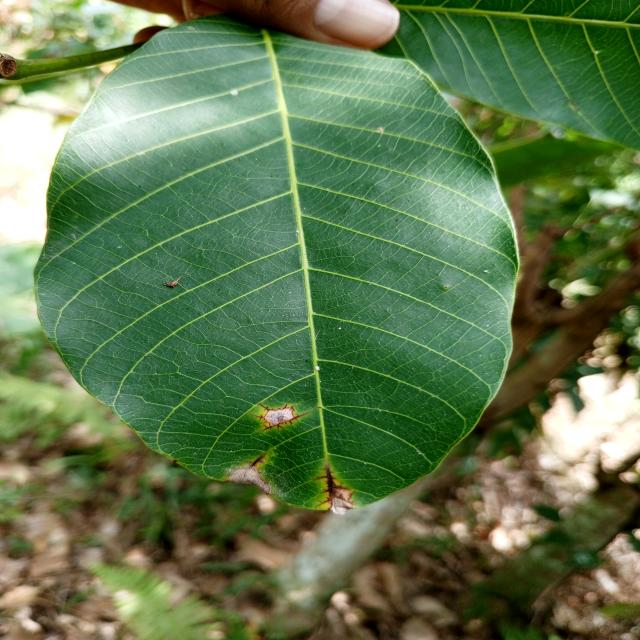Corynespora: (312, 464, 356, 508), (250, 403, 313, 431), (246, 452, 268, 468)
Leaf-Blight: (225, 467, 270, 495), (264, 408, 294, 426), (331, 498, 354, 515)
